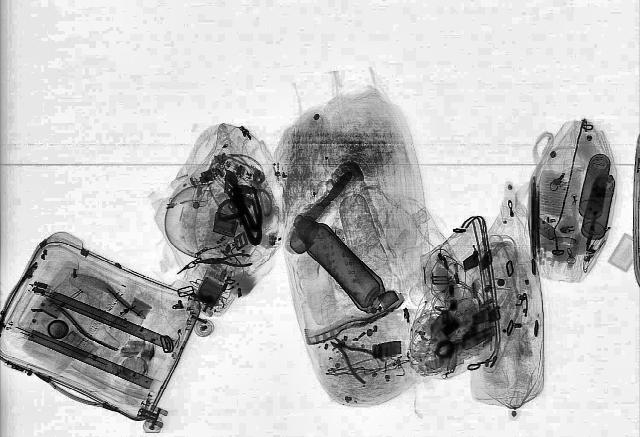Pliers: (318, 331, 396, 383)
